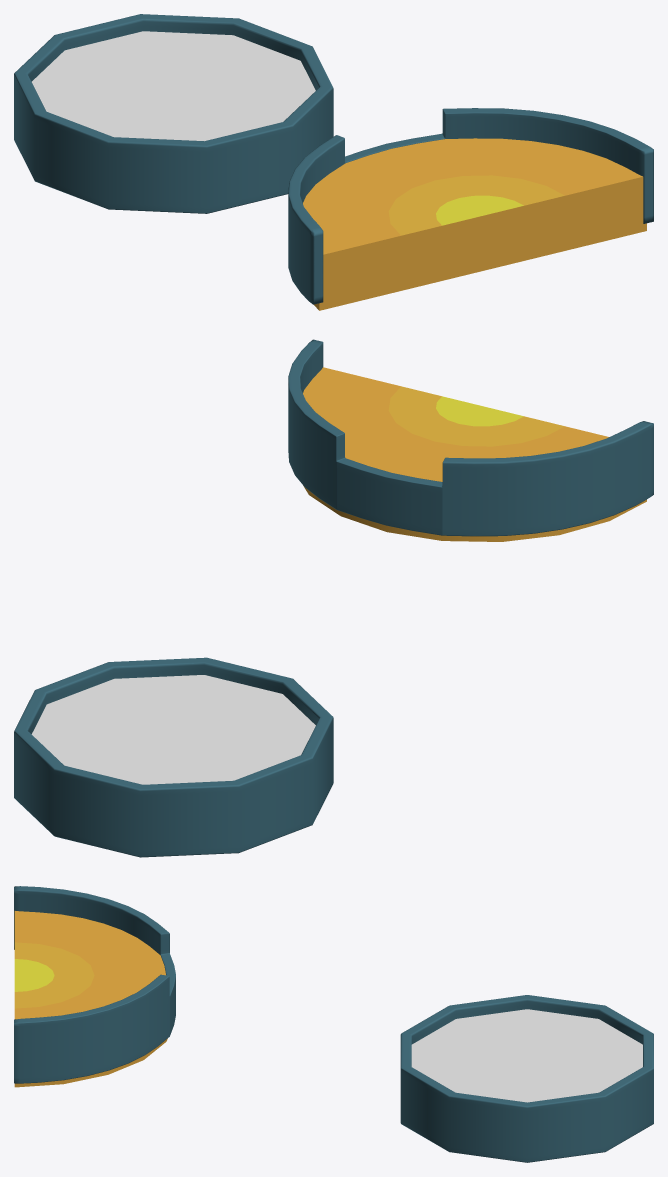
The model's file is ground.fbx.
3 renders of one model, top to bottom at view 1: azimuth 30°, elevation 25°; view 2: azimuth 150°, elevation 25°; view 3: azimuth 270°, elevation 25°, orthographic. The views are drawn at different scales.
Parts seen in each view (by area): view 1: g2_1, g1_2, g1_1, g2_2; view 2: g1_2, g2_2, g1_1, g2_1; view 3: g1_2, g1_1, g2_2, g2_1.
Part boxes in pixels (x1=…): g2_1: x1=303, y1=138, x2=646, y2=310; g1_2: x1=14, y1=14, x2=333, y2=213; g1_1: x1=32, y1=31, x2=315, y2=141; g2_2: x1=288, y1=108, x2=653, y2=304; g1_2: x1=14, y1=657, x2=333, y2=857; g2_2: x1=288, y1=339, x2=653, y2=536; g1_1: x1=31, y1=675, x2=315, y2=784; g2_1: x1=303, y1=367, x2=646, y2=541; g1_2: x1=400, y1=995, x2=653, y2=1162; g1_1: x1=411, y1=1009, x2=642, y2=1102; g2_2: x1=14, y1=886, x2=175, y2=1083; g2_1: x1=14, y1=911, x2=167, y2=1087.
Size of the model in its own units: 44.31 by 22.9 by 86.98.
